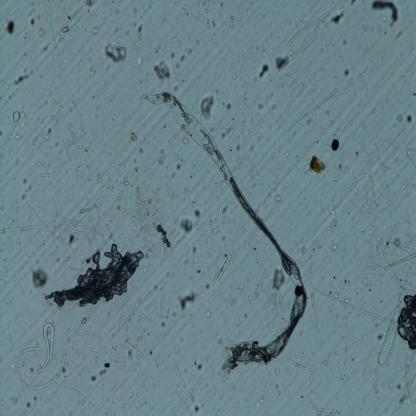Background material: (44, 247, 144, 306), (115, 181, 177, 250), (53, 123, 82, 156), (400, 295, 416, 348), (371, 0, 399, 26), (105, 38, 129, 66), (361, 354, 380, 386), (152, 56, 174, 83), (88, 360, 111, 381), (176, 287, 196, 311), (199, 92, 215, 121), (84, 12, 98, 43), (307, 154, 327, 175), (273, 266, 289, 291), (29, 268, 48, 289), (9, 69, 31, 87), (157, 224, 172, 250), (2, 14, 18, 38), (274, 52, 290, 73), (218, 120, 234, 141), (180, 214, 195, 235), (171, 73, 187, 92), (139, 0, 154, 18), (328, 132, 340, 154), (39, 122, 54, 139), (12, 262, 24, 282), (80, 308, 92, 328), (257, 63, 270, 81), (132, 53, 145, 71), (231, 138, 245, 154), (222, 98, 236, 114), (75, 344, 89, 360), (173, 131, 189, 145), (149, 281, 162, 298), (86, 62, 97, 82), (226, 70, 239, 86), (232, 156, 245, 172), (250, 35, 262, 52), (190, 244, 200, 264), (370, 386, 383, 401), (199, 0, 212, 15), (334, 9, 344, 28), (174, 52, 185, 69), (67, 7, 79, 22), (27, 8, 36, 28), (160, 146, 168, 168), (191, 359, 203, 373), (132, 144, 147, 155), (130, 156, 139, 174), (341, 66, 352, 80), (272, 191, 283, 205), (197, 49, 211, 60), (28, 0, 43, 10), (8, 88, 20, 100), (193, 36, 203, 50), (36, 24, 46, 38), (120, 177, 131, 189), (180, 2, 188, 18), (10, 393, 21, 404), (204, 16, 212, 31), (193, 403, 203, 415), (129, 130, 138, 143), (406, 112, 414, 126), (40, 42, 48, 56), (398, 396, 408, 407), (256, 100, 266, 111), (203, 308, 212, 320), (96, 170, 105, 182), (297, 247, 307, 257), (359, 276, 369, 286), (24, 184, 35, 193), (189, 390, 196, 404), (154, 43, 162, 55), (328, 241, 337, 251), (126, 18, 136, 27), (46, 7, 52, 22), (113, 5, 121, 16), (60, 25, 71, 33), (160, 318, 167, 330), (276, 383, 282, 397), (127, 389, 134, 401), (397, 111, 403, 125), (194, 267, 203, 276), (85, 0, 94, 9), (112, 25, 120, 35), (79, 398, 88, 406), (39, 313, 48, 321), (40, 248, 46, 260), (4, 345, 8, 363), (177, 161, 182, 175), (342, 36, 349, 46), (259, 396, 266, 406), (222, 205, 229, 215), (4, 258, 8, 275), (170, 50, 176, 61), (363, 333, 369, 344), (34, 158, 42, 166), (64, 254, 72, 262), (342, 278, 350, 286), (137, 335, 145, 343), (137, 25, 144, 34), (349, 0, 358, 7), (339, 372, 346, 381), (20, 192, 27, 201), (186, 44, 192, 54), (83, 144, 89, 154), (396, 384, 403, 392), (117, 67, 124, 75), (110, 114, 118, 121), (61, 332, 68, 340), (211, 19, 217, 28), (53, 115, 59, 124), (126, 28, 132, 36), (22, 177, 27, 186), (274, 369, 280, 376), (205, 284, 211, 291), (230, 14, 235, 22), (113, 344, 118, 352), (10, 362, 15, 370), (55, 255, 60, 263), (22, 50, 27, 58), (86, 6, 90, 14), (323, 360, 327, 368), (0, 245, 4, 253), (373, 64, 377, 72), (261, 52, 267, 57), (86, 56, 92, 61), (148, 350, 153, 356), (219, 0, 223, 7), (12, 340, 16, 347), (37, 15, 42, 20), (115, 357, 120, 362), (390, 382, 394, 388), (114, 398, 118, 404), (122, 402, 126, 408), (34, 136, 38, 141), (216, 412, 221, 416), (0, 400, 5, 404), (101, 13, 105, 18), (12, 218, 16, 223), (350, 358, 356, 361), (208, 35, 211, 41), (212, 32, 216, 36), (75, 169, 79, 173), (301, 394, 304, 399), (42, 241, 45, 246), (36, 260, 39, 264), (40, 74, 43, 78), (28, 88, 32, 91), (109, 7, 112, 10), (112, 0, 114, 4), (57, 101, 60, 103), (60, 105, 62, 108)
Cotton: (126, 88, 294, 366)
Glass filter fibre: (48, 19, 82, 169), (346, 172, 390, 266), (288, 81, 358, 135), (314, 287, 398, 329), (376, 270, 411, 367), (16, 344, 68, 390), (0, 281, 34, 348), (280, 25, 322, 72), (0, 224, 94, 242), (286, 11, 330, 47), (223, 230, 236, 342), (62, 384, 106, 416), (369, 105, 389, 175), (330, 326, 376, 356), (16, 388, 63, 416), (78, 182, 112, 215), (0, 110, 20, 157), (40, 323, 56, 373), (68, 330, 106, 351), (254, 260, 275, 296), (50, 180, 62, 242), (304, 357, 316, 413), (382, 252, 416, 271), (211, 165, 228, 203), (98, 93, 108, 156), (308, 398, 342, 416), (384, 128, 406, 155), (123, 340, 145, 365), (25, 201, 46, 227), (306, 246, 314, 310), (216, 254, 233, 283), (248, 364, 262, 398), (329, 196, 343, 230), (288, 357, 313, 374), (403, 362, 412, 401), (172, 365, 186, 390), (201, 216, 232, 227), (190, 171, 201, 196), (219, 19, 238, 32), (177, 397, 190, 414), (407, 146, 416, 168), (410, 55, 416, 74), (49, 166, 54, 188), (119, 310, 124, 328), (23, 16, 26, 39), (170, 402, 176, 413), (40, 173, 50, 178), (48, 406, 53, 414)
